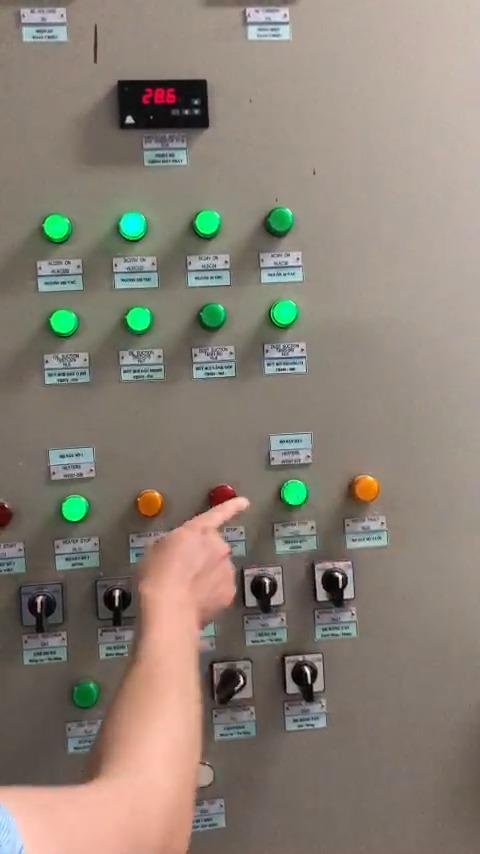led: (67, 678, 102, 712), (188, 208, 223, 241), (40, 211, 72, 243), (205, 482, 235, 515), (278, 475, 310, 505), (262, 205, 293, 235), (350, 473, 380, 504), (134, 489, 164, 519), (58, 491, 88, 521), (189, 758, 216, 791), (120, 305, 150, 334), (197, 301, 226, 330), (267, 296, 295, 325), (117, 213, 145, 241), (47, 308, 75, 336), (0, 498, 18, 534)
twist: (17, 579, 62, 629), (90, 574, 136, 621), (314, 561, 358, 606), (212, 659, 254, 703), (243, 569, 285, 611), (282, 651, 321, 694)
